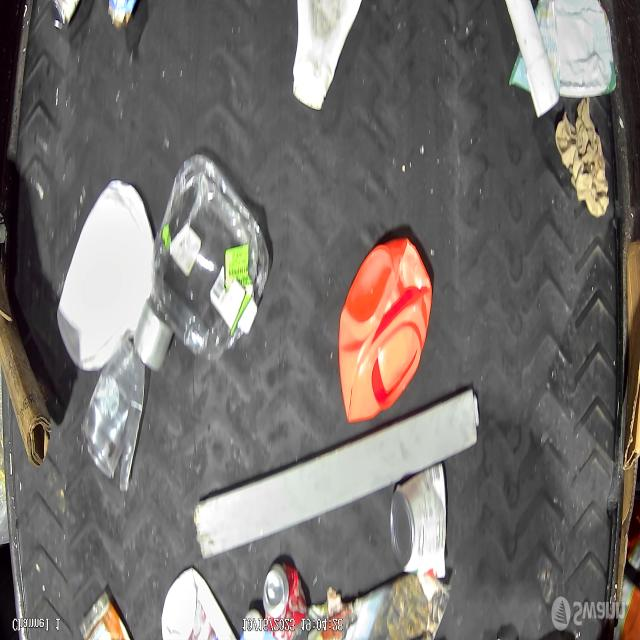can: (391, 461, 447, 571), (262, 562, 307, 640), (49, 0, 82, 32)
milk_jug: (59, 179, 153, 372), (291, 0, 361, 113), (160, 567, 238, 640)
non_white_jug: (340, 236, 434, 427)
